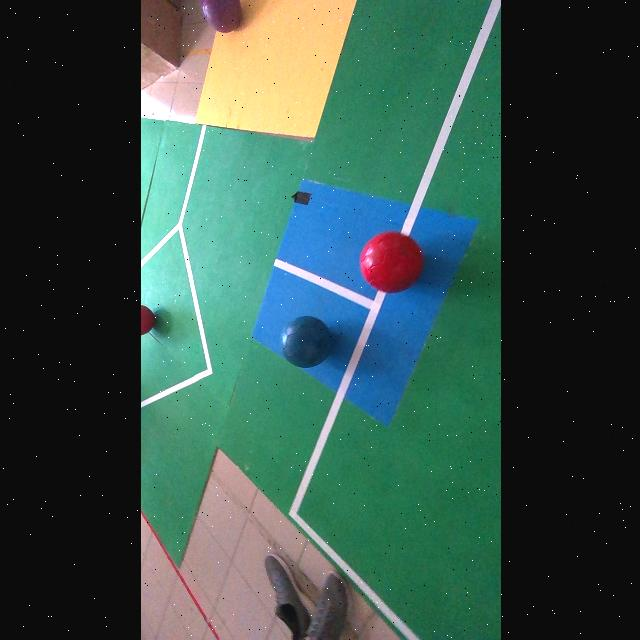B: (280, 315, 331, 367)
P: (198, 0, 239, 32)
R: (359, 231, 422, 293)
